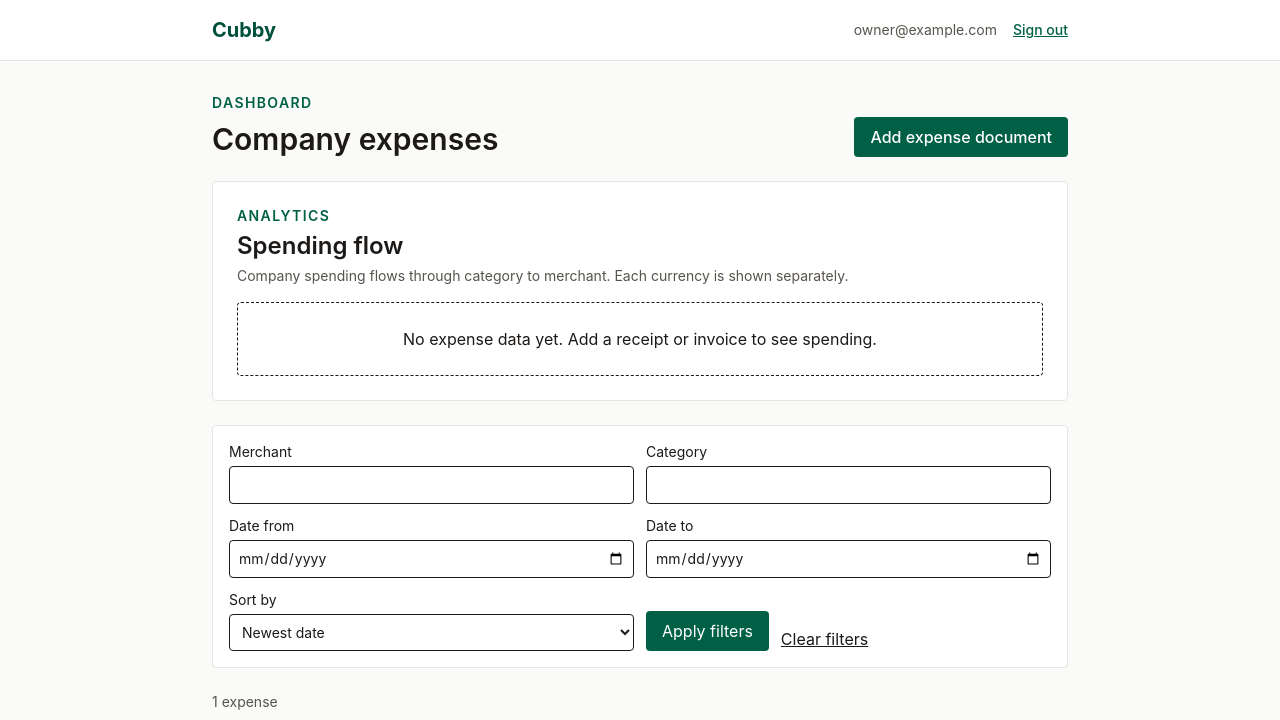
Test: receipt screens › validates the date range and applies another sort without changing the owner
Type "2026-09-29" into the date field labelled "Date from" at (432,559), box [229,540,634,578]
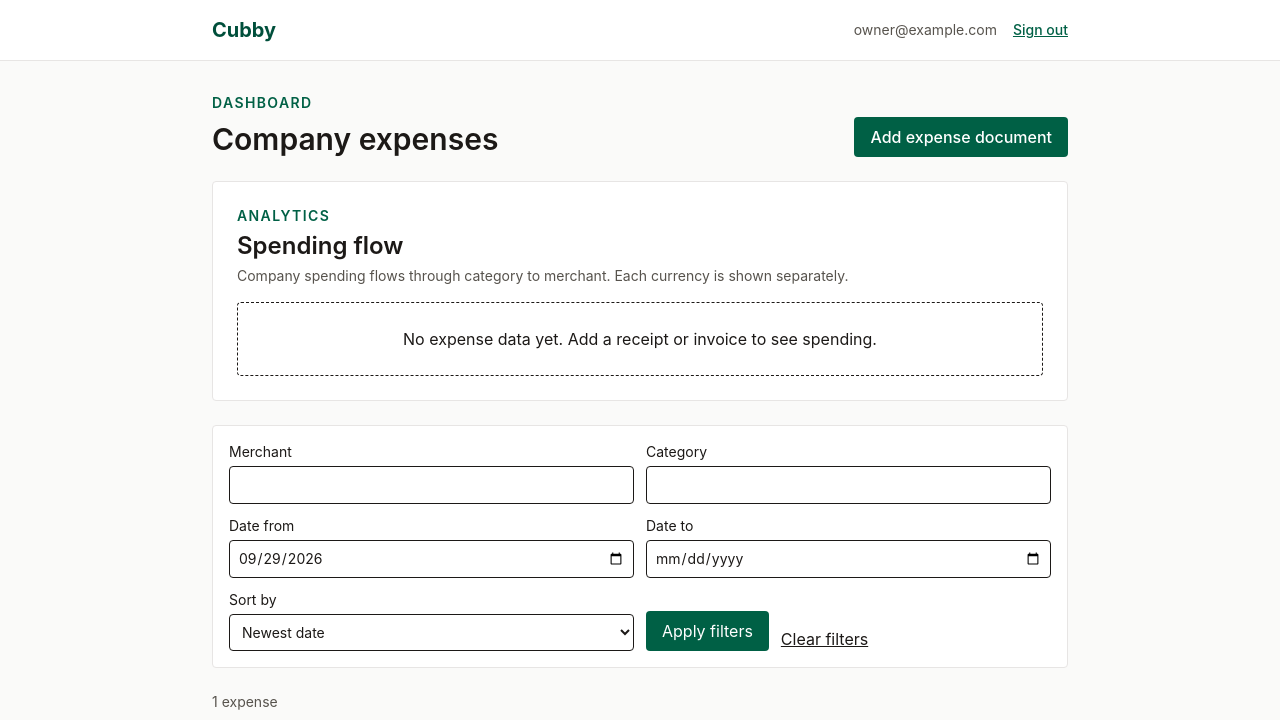
Type "2026-09-28" into the date field labelled "Date to" at (848,559), box [646,540,1051,578]
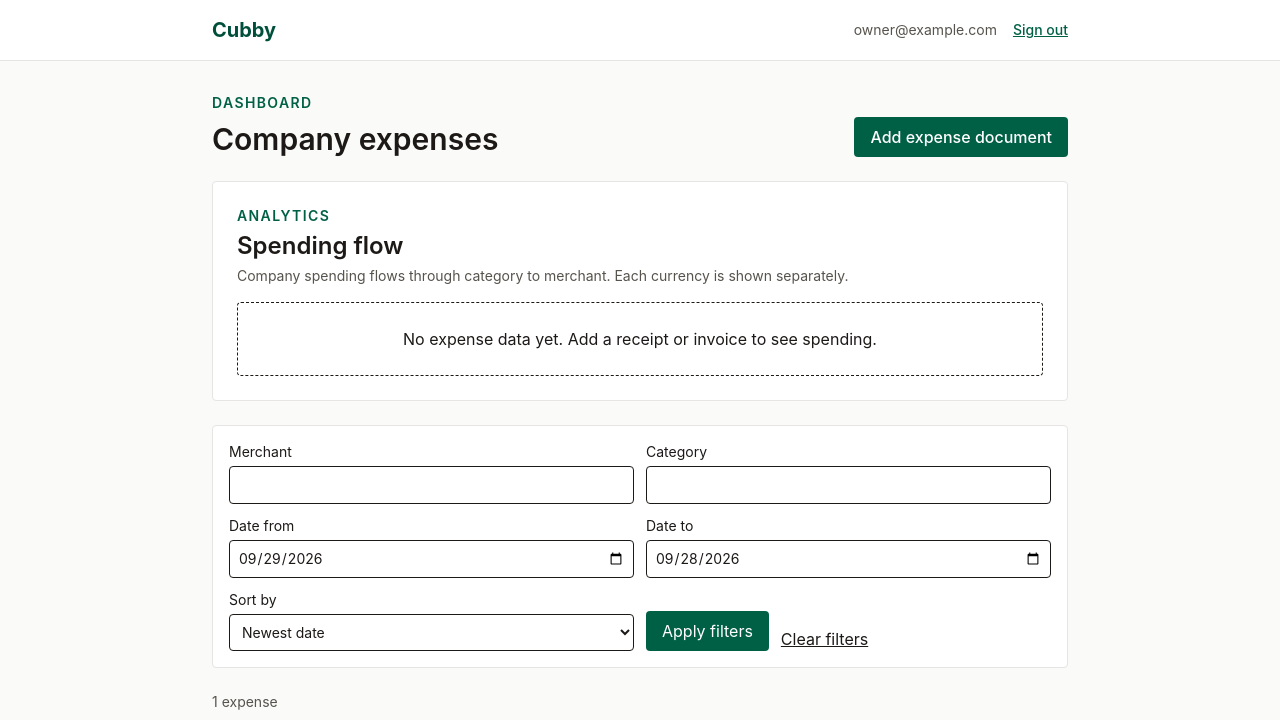
Click the button "Apply filters" at (707,631), box [646,611,769,651]
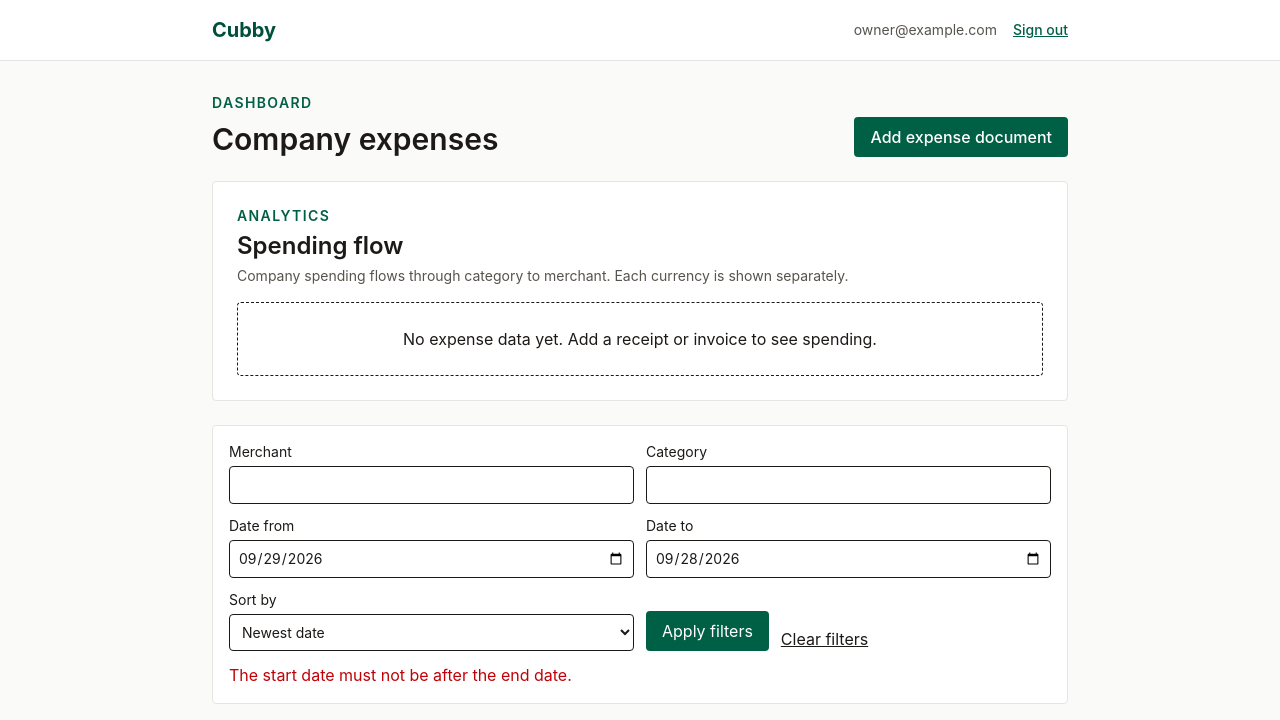
expect the message shows "start date": met, box [229,665,572,685]
Type "2026-09-30" into the date field labelled "Date to" at (848,559), box [646,540,1051,578]
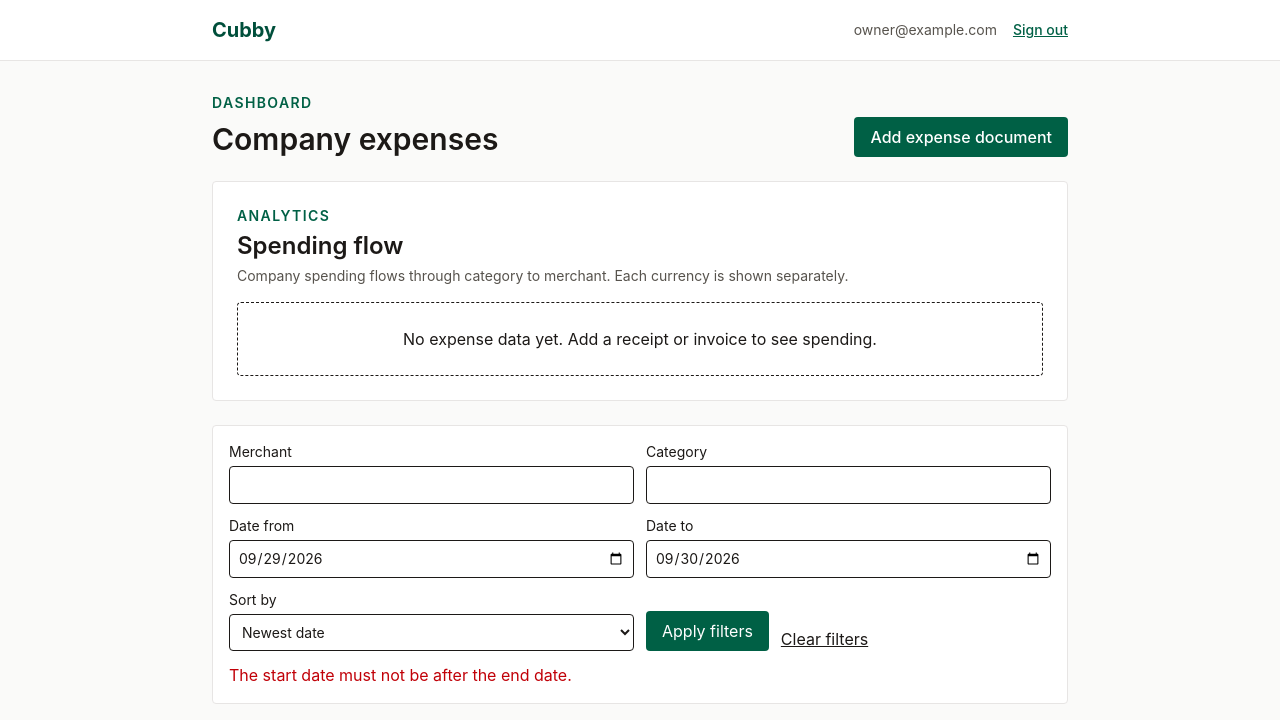
Select "Highest total" in the dropdown labelled "Sort by" at (432,632), box [229,614,634,651]
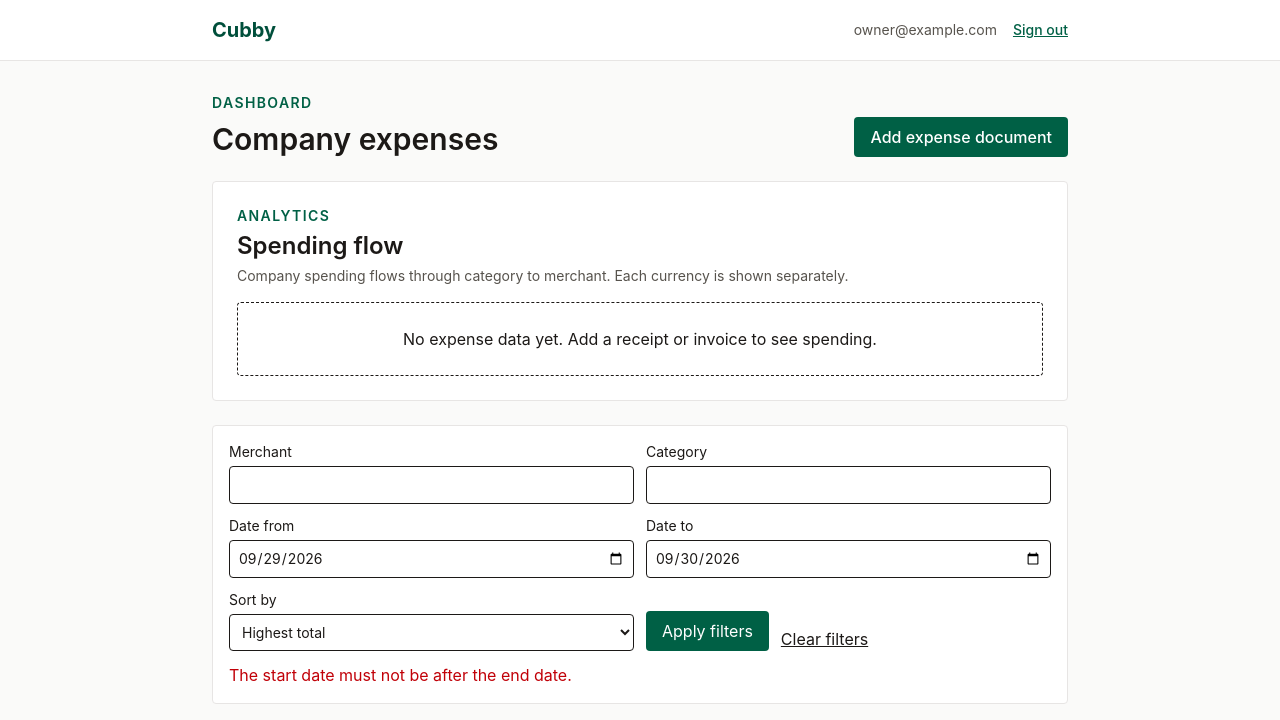
Click the button "Apply filters" at (707,631), box [646,611,769,651]
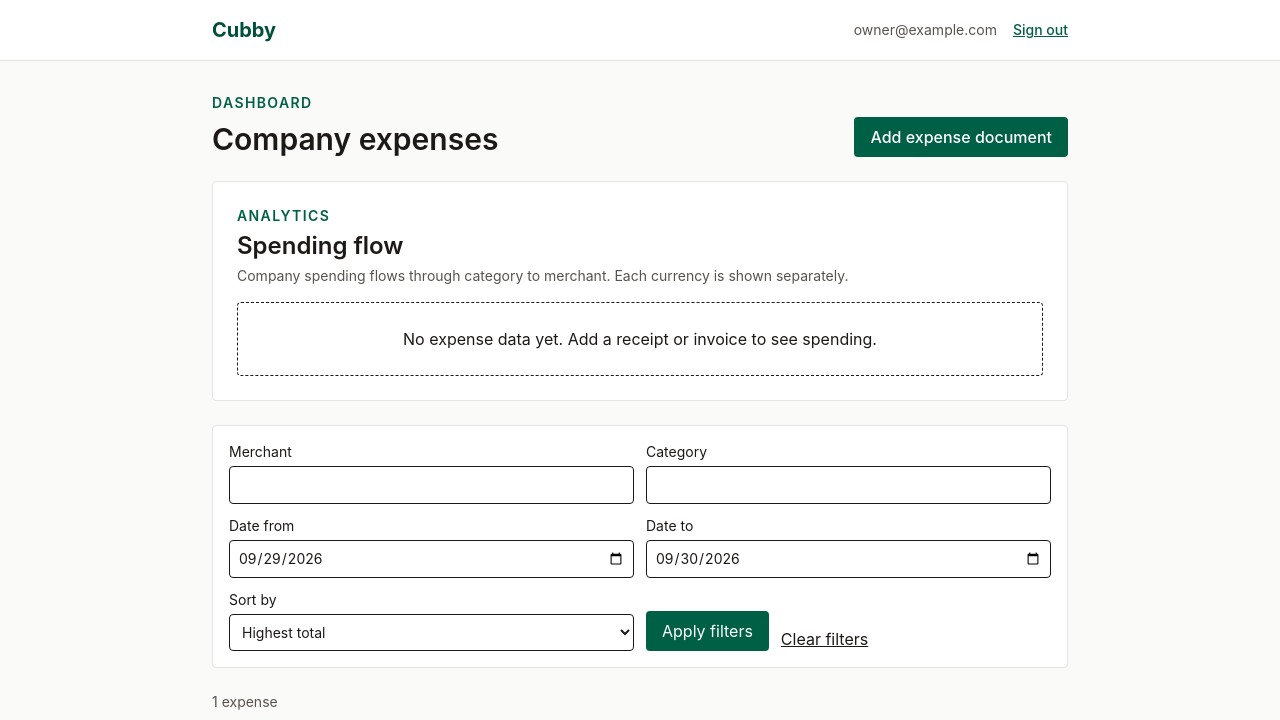
expect the message "The start date must not be after the end date." is gone: met
